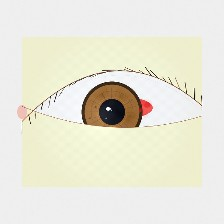hemorrhage_spot: (79, 74, 164, 142)
